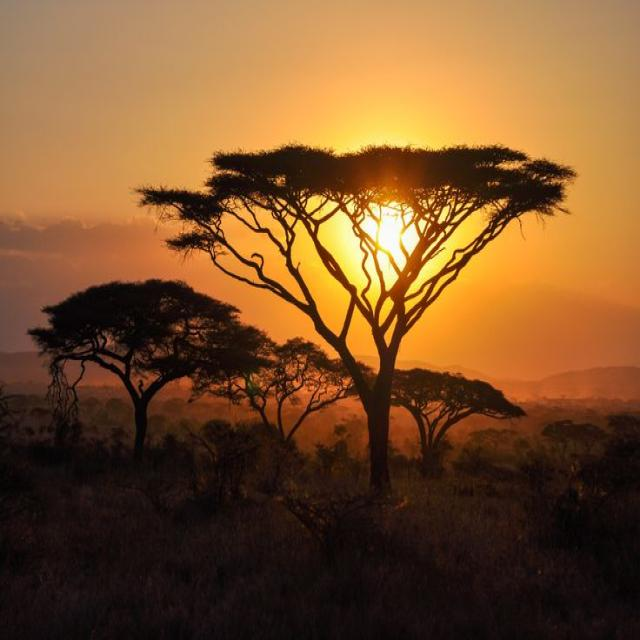Acacia: (223, 156, 552, 451), (40, 254, 213, 448)
